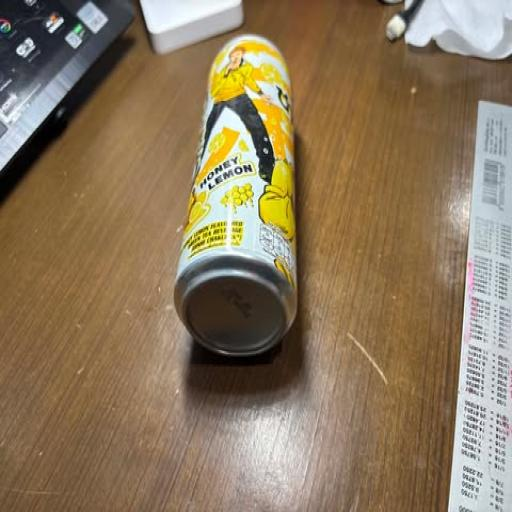canned: (142, 14, 353, 386)
